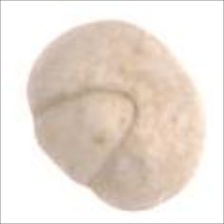L5: (29, 87, 144, 188)
L6: (27, 19, 208, 213)
